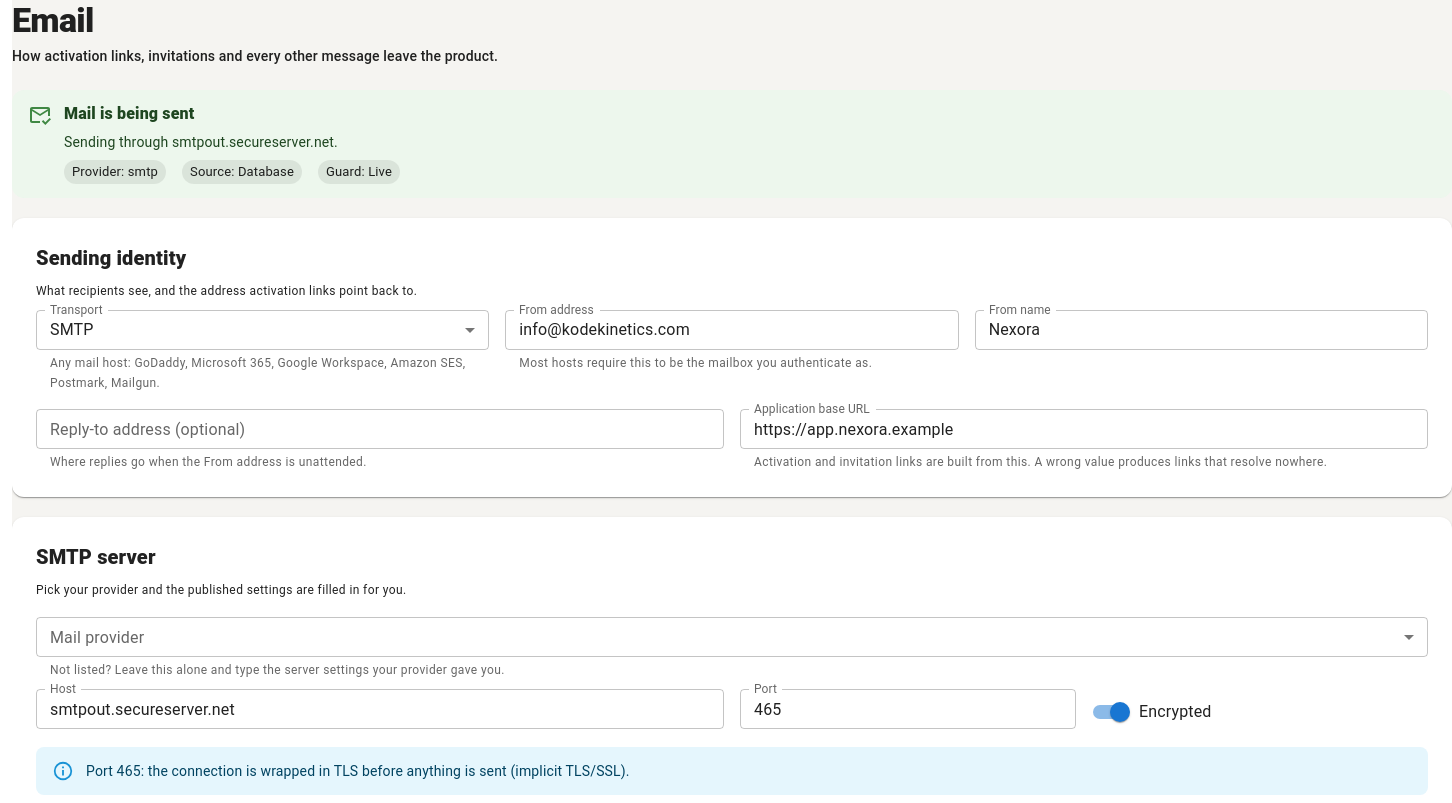
Test: platform email settings › warns when the From address is not the mailbox being authenticated as
This screenshot has width=1452, height=803.
Check: the text "not the mailbox you are signing in as" is not shown
Replace the text in the field labelled "From address" with "zack@kodekinetics.com" at (732, 330), box [505,310,959,350]
(page scrolled)
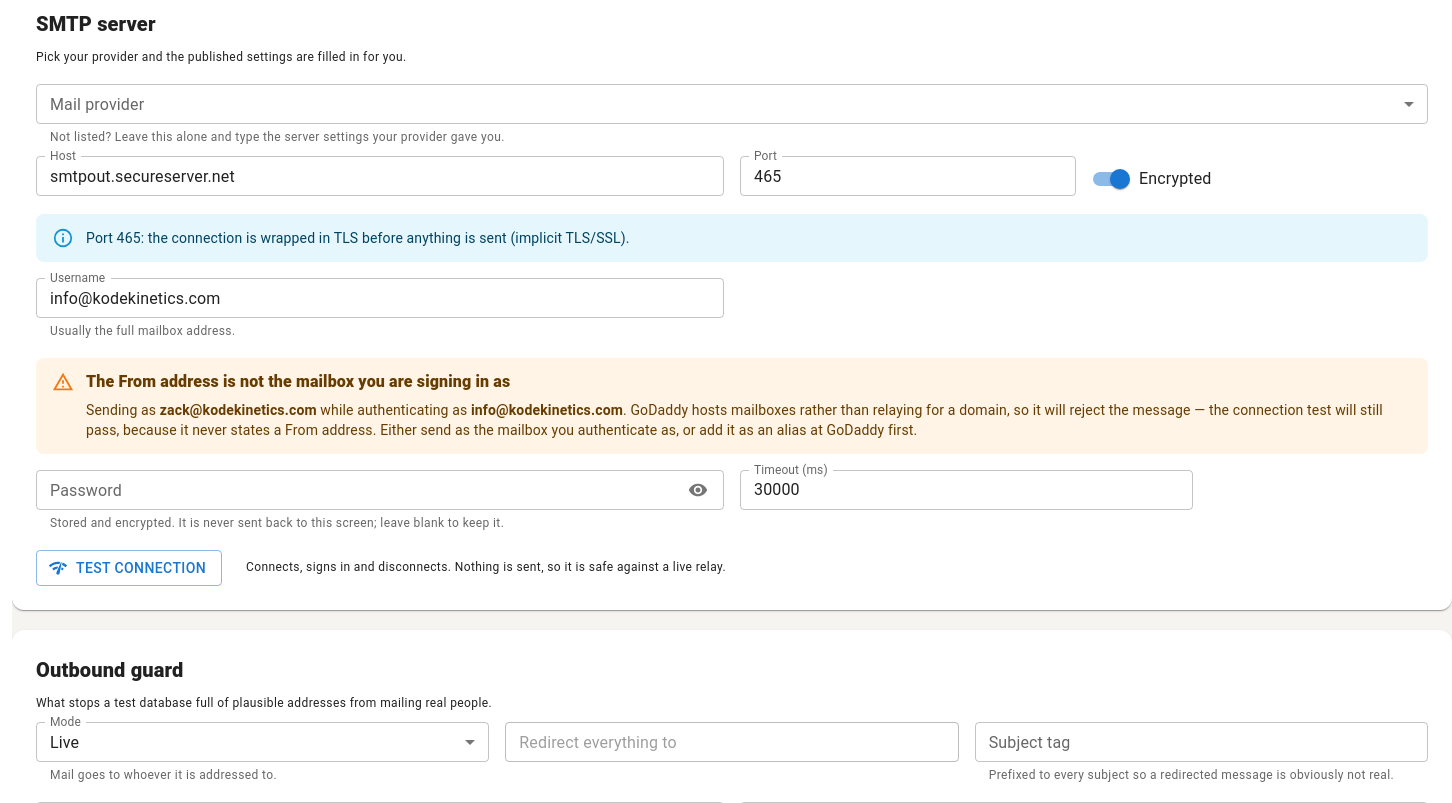
Check: the text "The From address is not the mailbox you are signing in as" is shown, box [86,372,510,391]
Check: the text "GoDaddy hosts mailboxes rather than relaying" is shown, box [86,364,1412,448]
